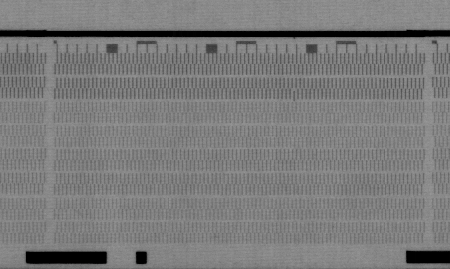Oblique printing: (289, 87, 299, 102)
